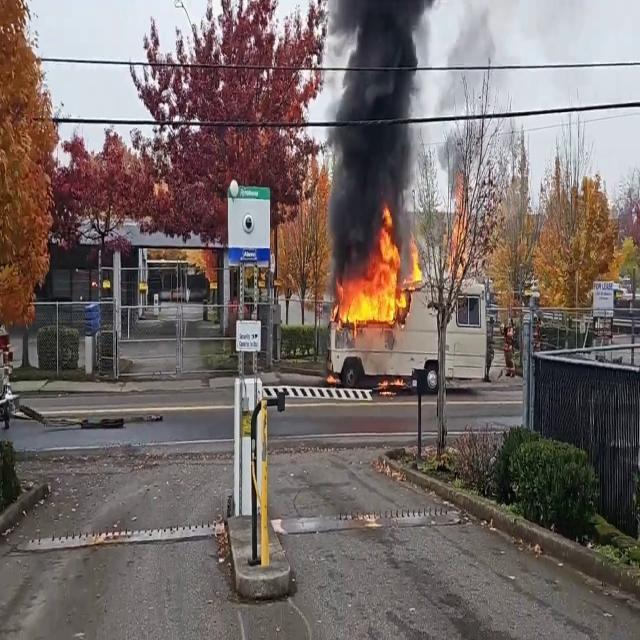Fire: (332, 214, 418, 330)
Smoke: (320, 0, 438, 273)
